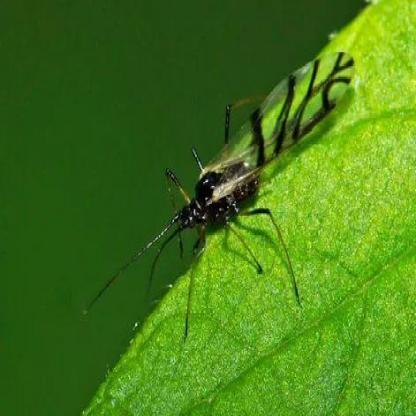aphid: (71, 44, 358, 342)
